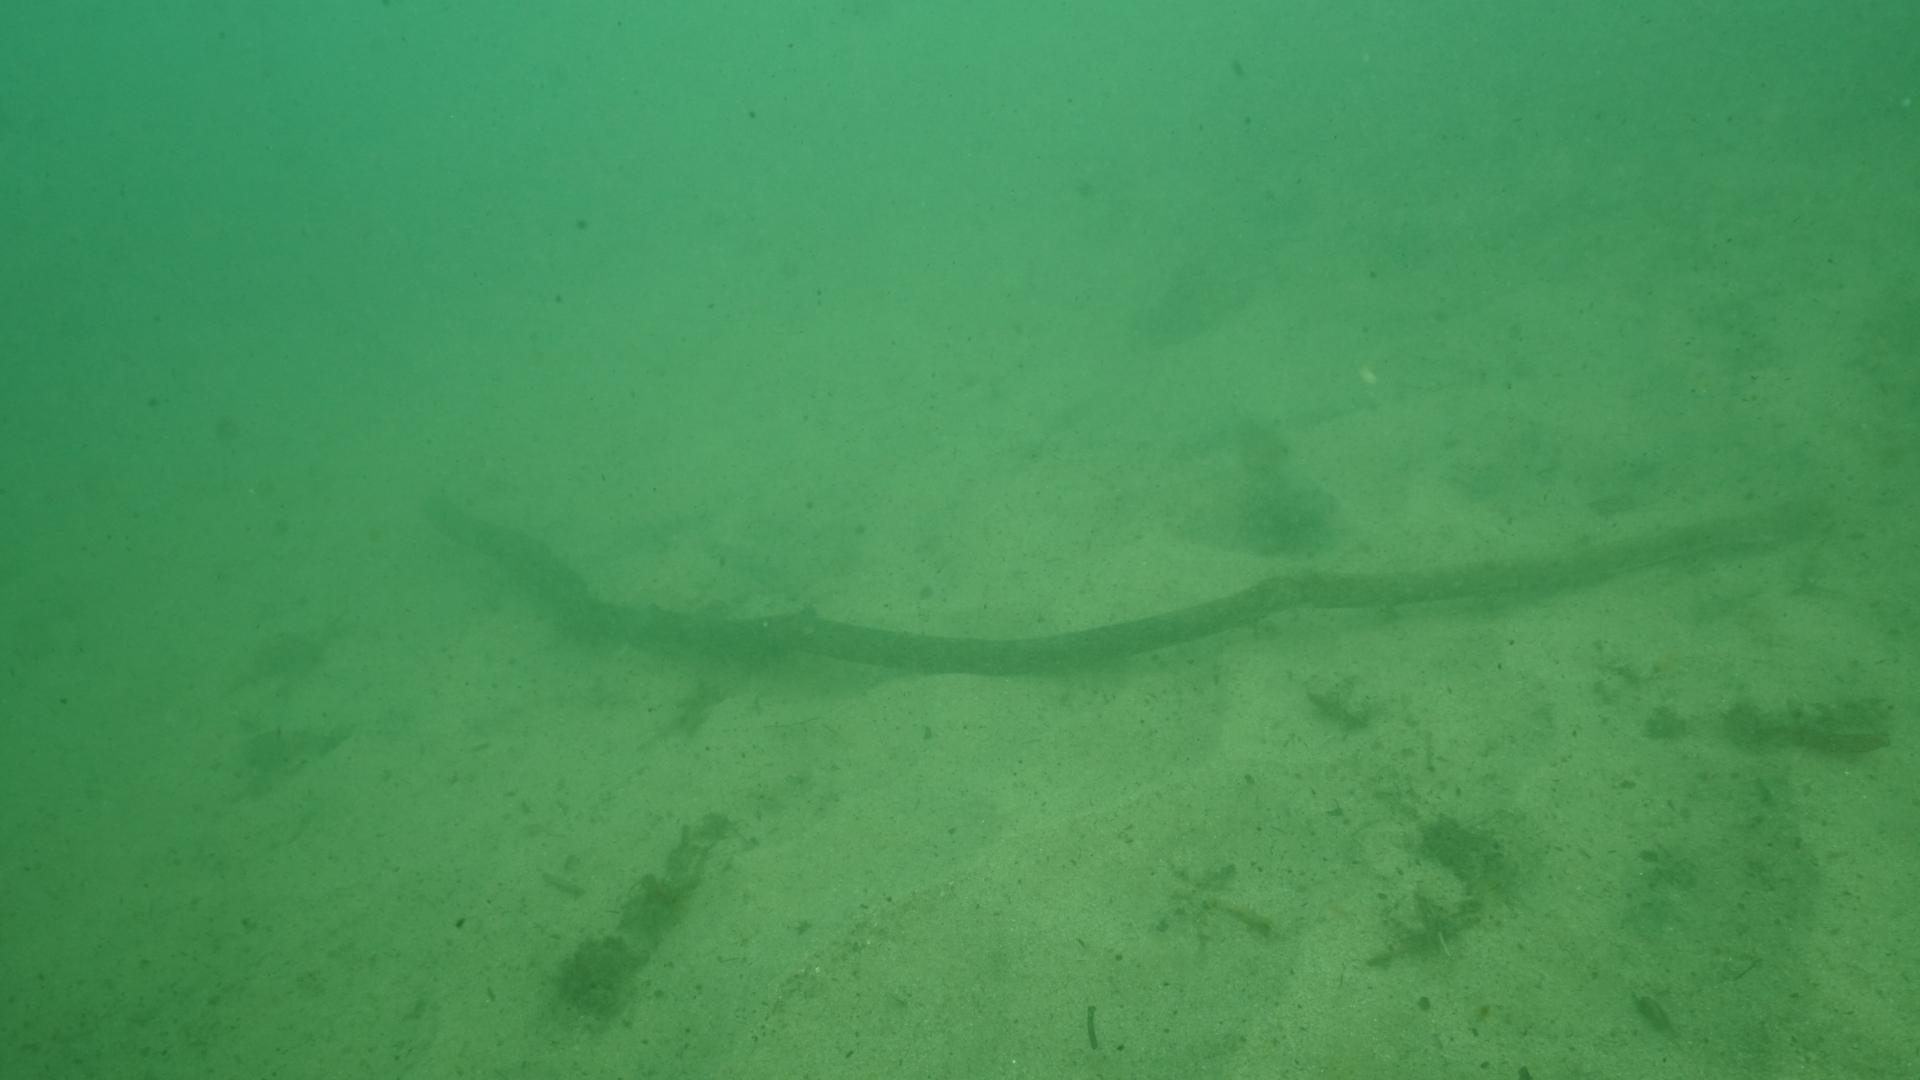wood: (426, 487, 1844, 676)
